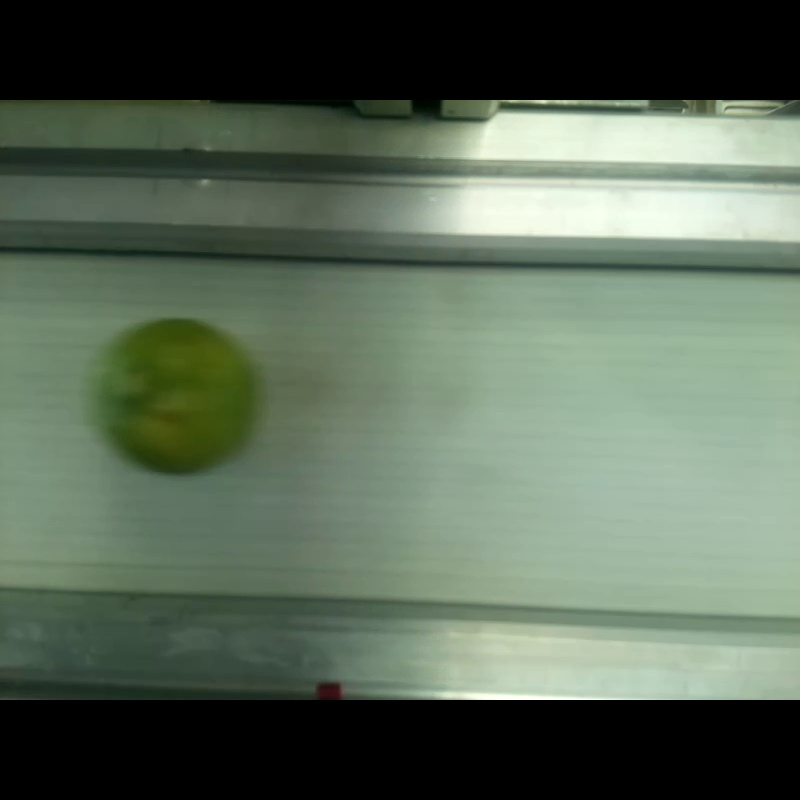lime: (99, 320, 255, 473)
